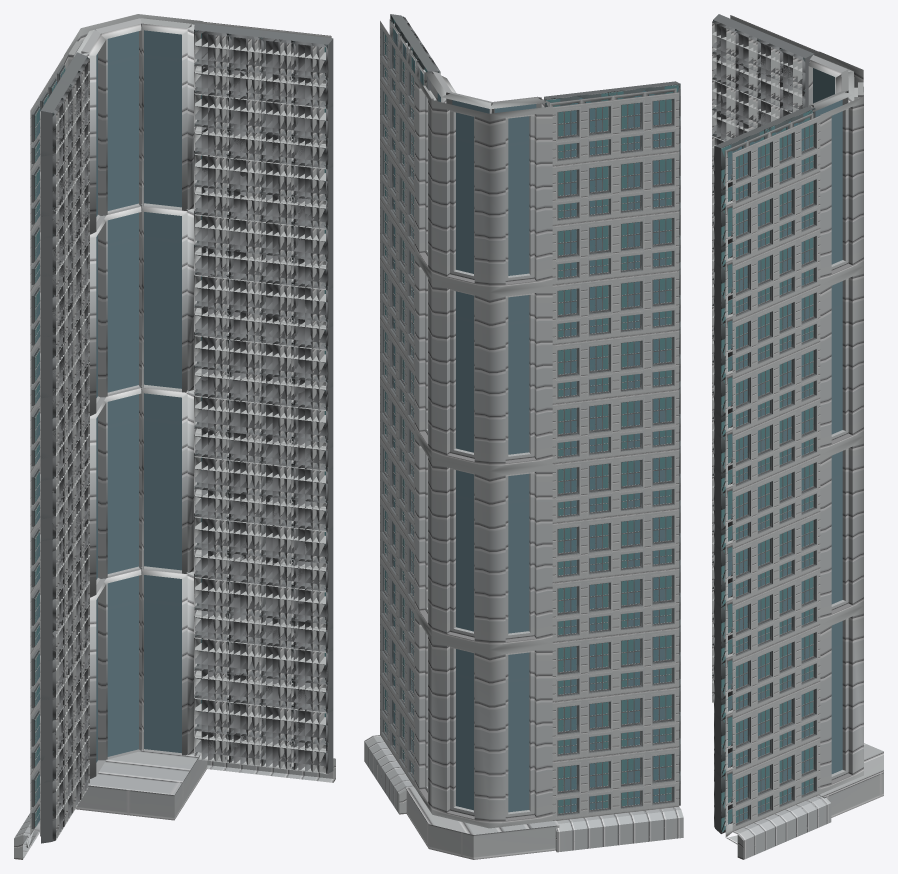
The model's file is TowerTest03 Merged Vertices.fbx.
The picture shows the model from 3 angles, left to right: view 1: azimuth 30°, elevation 25°; view 2: azimuth 150°, elevation 25°; view 3: azimuth 270°, elevation 25°; orthographic projection. The views are drawn at different scales.
Parts seen in each view (by area): view 1: MegaBuilding01; view 2: MegaBuilding01; view 3: MegaBuilding01.
Part boxes in pixels (x1,y1,x2,y2): MegaBuilding01: (14,14,335,859); MegaBuilding01: (364,14,683,859); MegaBuilding01: (712,14,883,859).
Size of the model in its own units: 2460 by 5487 by 1211.
